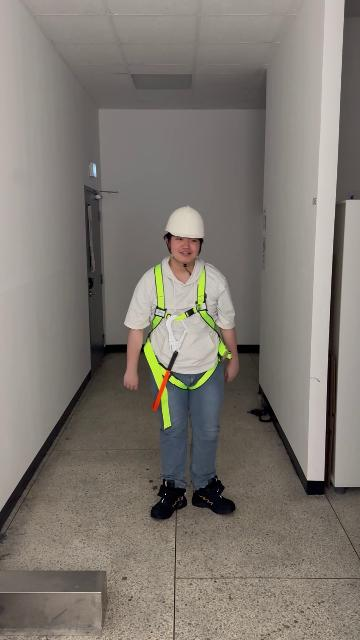helmet_worn: (163, 204, 206, 239)
shoe_worn: (192, 476, 235, 515), (150, 479, 187, 519)
vest_worn: (139, 266, 233, 425)
